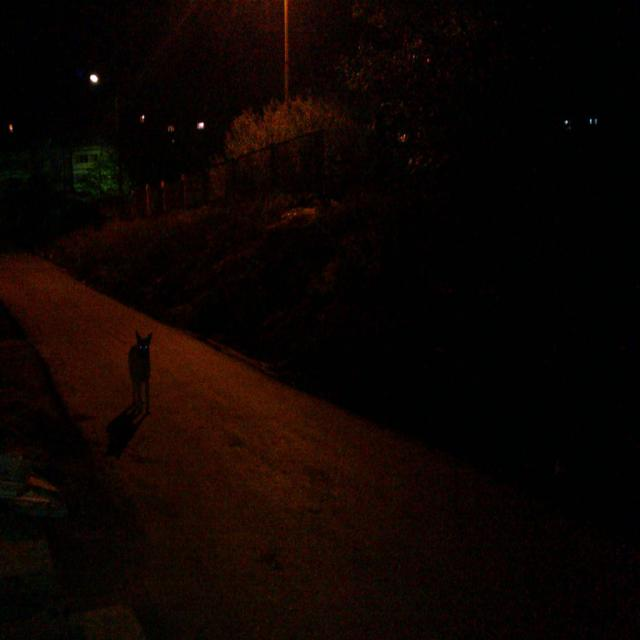Dog: (108, 292, 184, 434)
